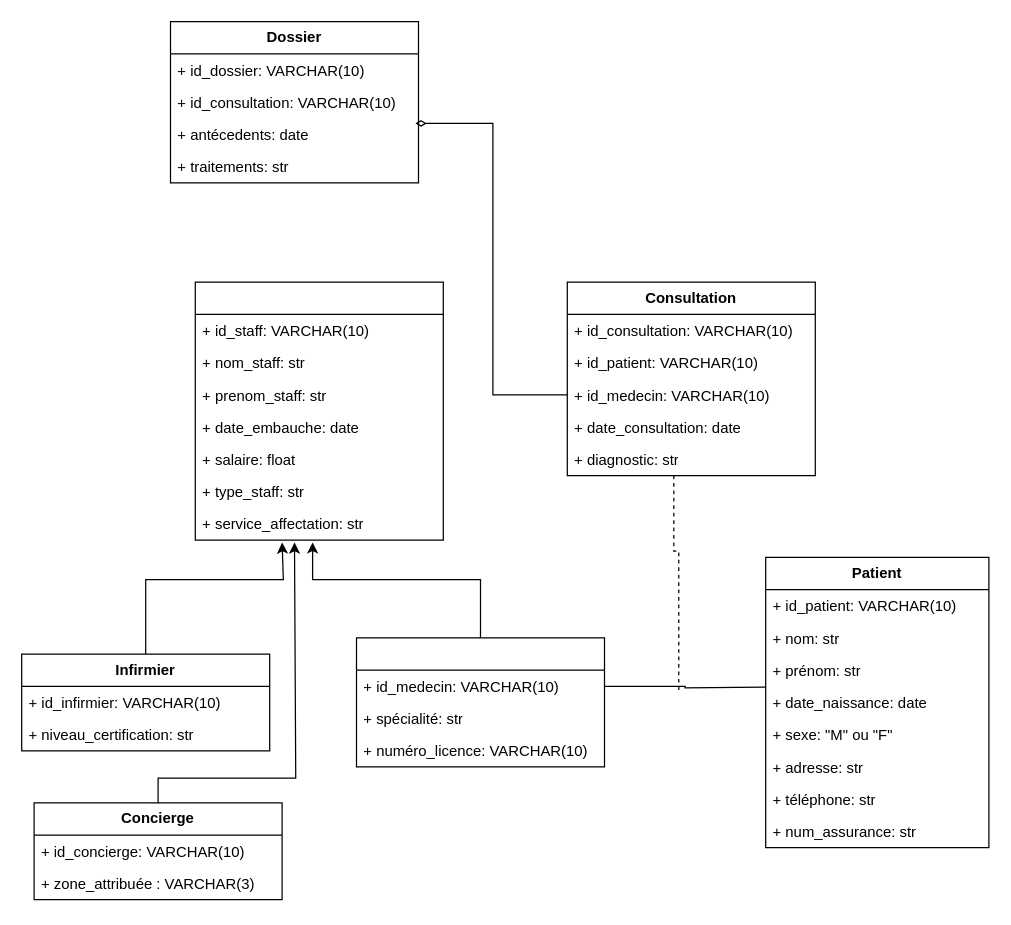
This 1011x925 diagram has some shape labels left out. Here are the shapes that lost their labels. From the top down, the box of each, then its label:
(194, 281, 443, 540): Personnel
(355, 637, 604, 767): Médecin
